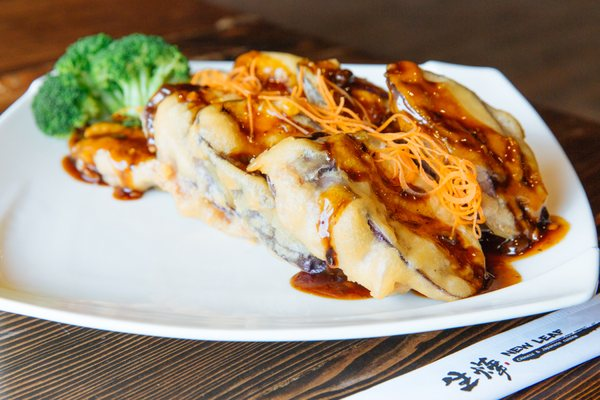curry: (32, 31, 192, 137)
